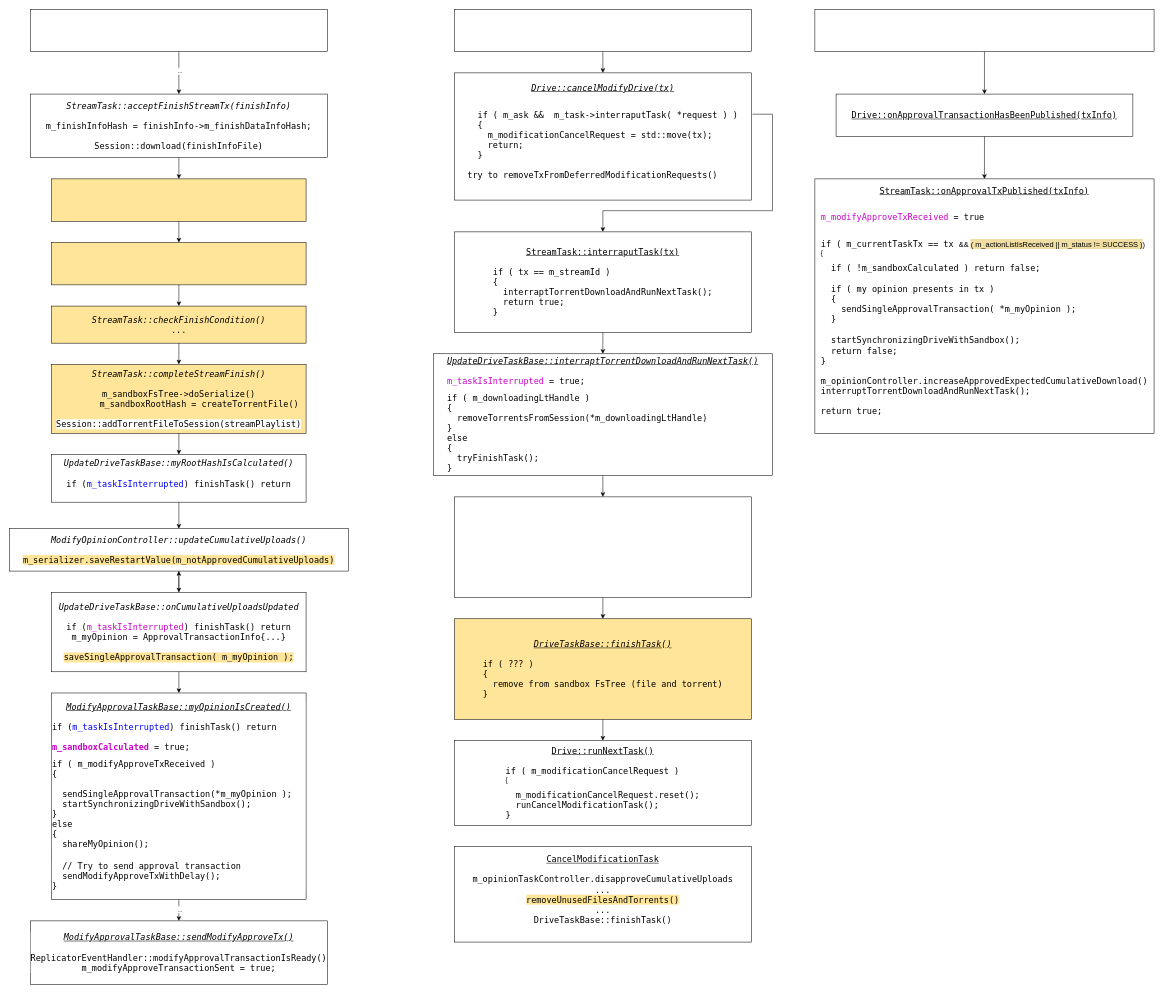
Some shapes in this 1163 by 994 pixel diagram are drawn without their labels. Each missing label, with the box of its shape:
Replicator:: asyncApprovalTransactionHasBeenPublished (txInfo): (814, 9, 1154, 52)
Replicator:: asyncCancelModify (tx): (454, 9, 751, 52)
Replicator:: asyncFinishStreamTxPublished (finishInfo): (30, 9, 327, 52)
StreamTask:: continueFinishStream () request missing chunks: (51, 242, 306, 285)
StreamTask:: parseFinishInfoFile () m_finishInfo = parseFileData(fileData): (51, 178, 306, 221)
StreamTask:: tryFinishTask (tx) if ( ??? ) { finishTask(); }: (454, 496, 751, 598)
